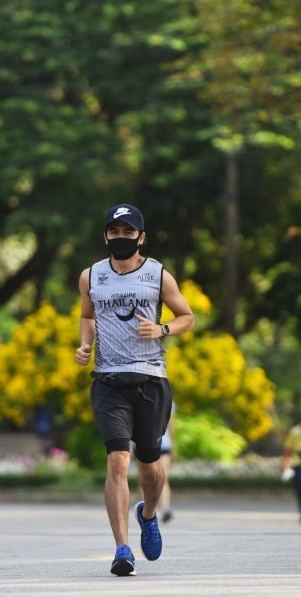with_mask: (99, 205, 149, 264)
